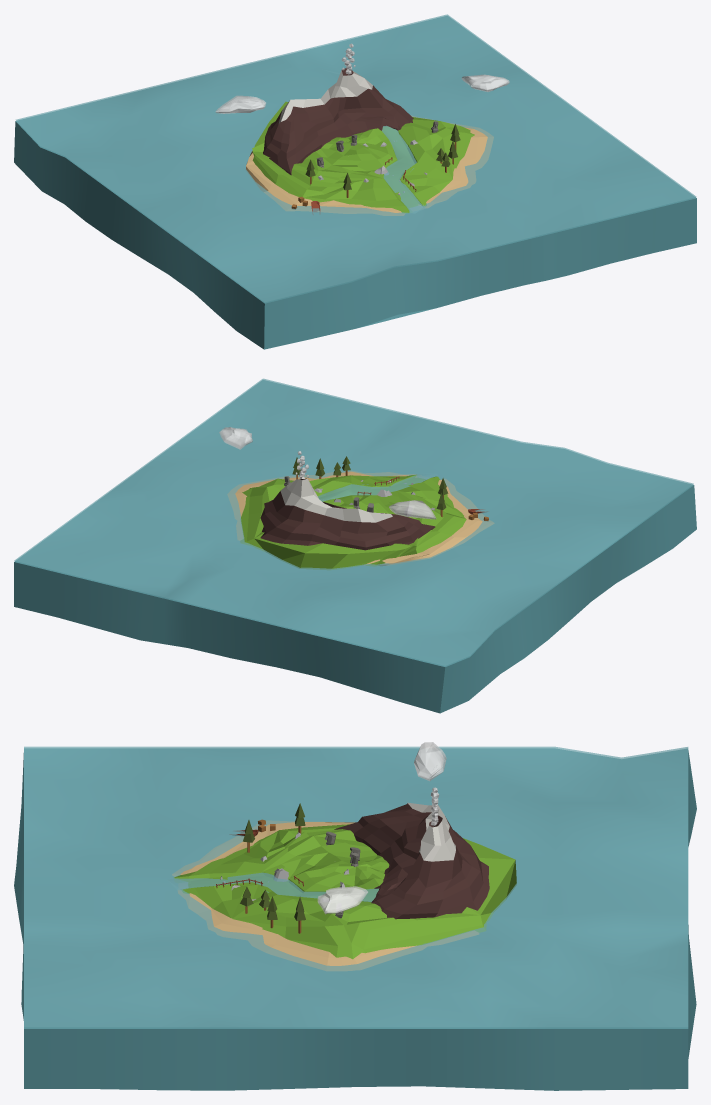
The model's file is island.fbx.
The picture shows the model from 3 angles, top to bottom: view 1: azimuth 30°, elevation 25°; view 2: azimuth 150°, elevation 25°; view 3: azimuth 270°, elevation 25°; orthographic projection. The views are drawn at different scales.
Visible parts, largest first — view 1: Mar_e_moto1, Mar_e_moto, pCylinder1, Montanha, pCylinder2, Agua, pCube13, pCube14, pCube42; view 2: Mar_e_moto1, Mar_e_moto, pCylinder1, Montanha, pCylinder2, Agua, pCube13, pCube14, pCube42; view 3: Mar_e_moto1, Mar_e_moto, pCylinder1, Montanha, pCylinder2, Agua, pCube14, pCube13, pCube43, pCube42.
Boxes of the visible parts, <box> form: Mar_e_moto1: <box>14,16,696,349</box>; Mar_e_moto: <box>15,14,696,302</box>; pCylinder1: <box>252,101,474,212</box>; Montanha: <box>263,68,413,175</box>; pCylinder2: <box>246,115,493,215</box>; Agua: <box>382,125,424,213</box>; pCube13: <box>215,95,266,113</box>; pCube14: <box>461,74,509,91</box>; pCube42: <box>218,97,264,112</box>; Mar_e_moto1: <box>14,380,696,713</box>; Mar_e_moto: <box>14,378,693,665</box>; pCylinder1: <box>240,474,466,569</box>; Montanha: <box>260,478,435,550</box>; pCylinder2: <box>227,471,494,565</box>; Agua: <box>318,473,437,501</box>; pCube13: <box>389,500,436,519</box>; pCube14: <box>219,427,252,449</box>; pCube42: <box>391,501,434,517</box>; Mar_e_moto1: <box>14,748,696,1090</box>; Mar_e_moto: <box>24,746,688,1027</box>; pCylinder1: <box>174,824,516,959</box>; Montanha: <box>334,802,489,919</box>; pCylinder2: <box>172,820,478,970</box>; Agua: <box>167,872,379,902</box>; pCube14: <box>317,886,367,914</box>; pCube13: <box>414,742,446,781</box>; pCube43: <box>319,888,364,912</box>; pCube42: <box>414,744,443,779</box>.
Size of the model in its own units: 95.75 by 29.25 by 96.73.
